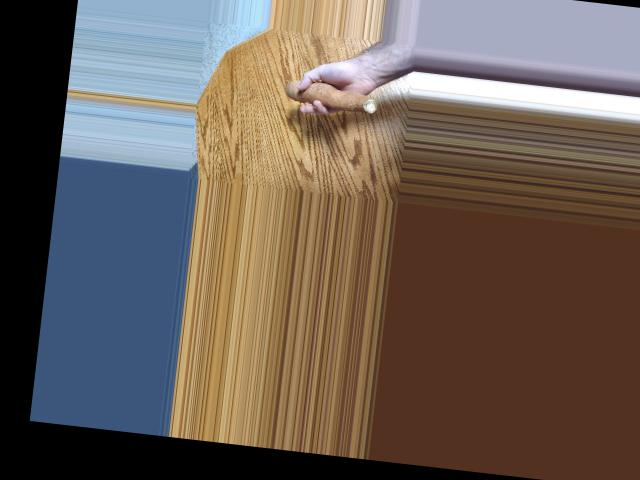sweet_potato: (278, 83, 382, 118)
